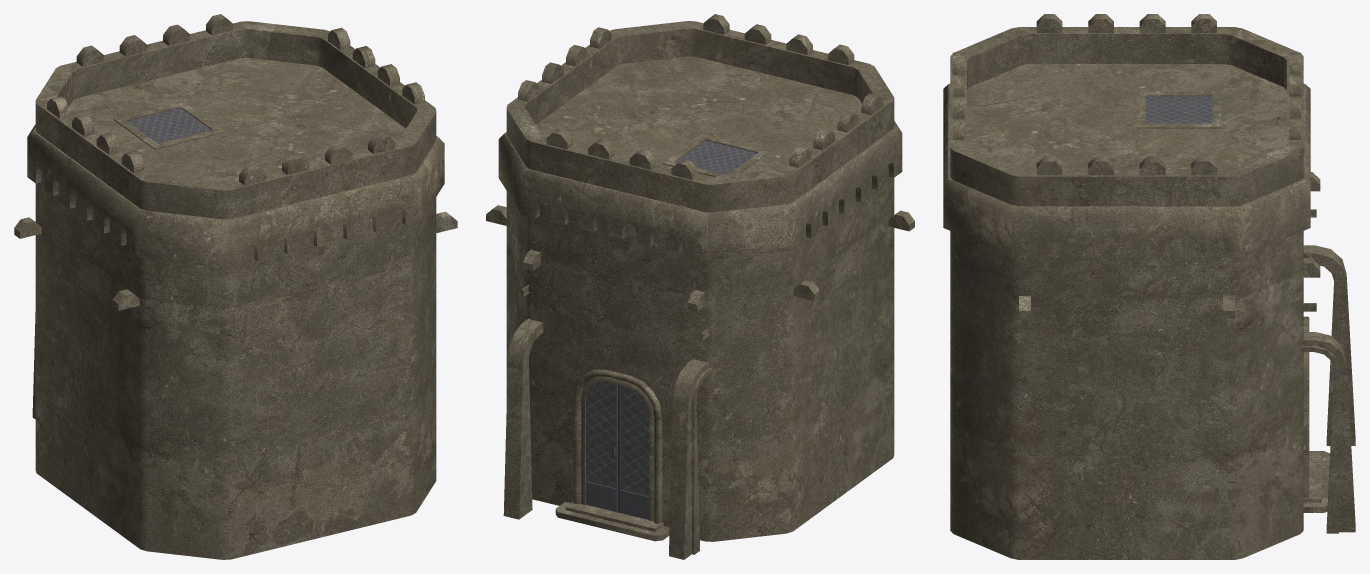
File: rampart_tower_octagon.gltf
The picture shows the model from 3 angles, left to right: view 1: azimuth 30°, elevation 25°; view 2: azimuth 150°, elevation 25°; view 3: azimuth 270°, elevation 25°; orthographic projection. The views are drawn at different scales.
Visible parts, largest first — view 1: rampart_tower_octagon; view 2: rampart_tower_octagon; view 3: rampart_tower_octagon.
Boxes of the visible parts, x1=… form: rampart_tower_octagon: x1=14, y1=14, x2=457, y2=559; rampart_tower_octagon: x1=486, y1=14, x2=914, y2=559; rampart_tower_octagon: x1=943, y1=14, x2=1355, y2=559.
Bounding box in the file's own units: 23.43 × 25.25 × 23.73.
2 materials, 2 textured.
